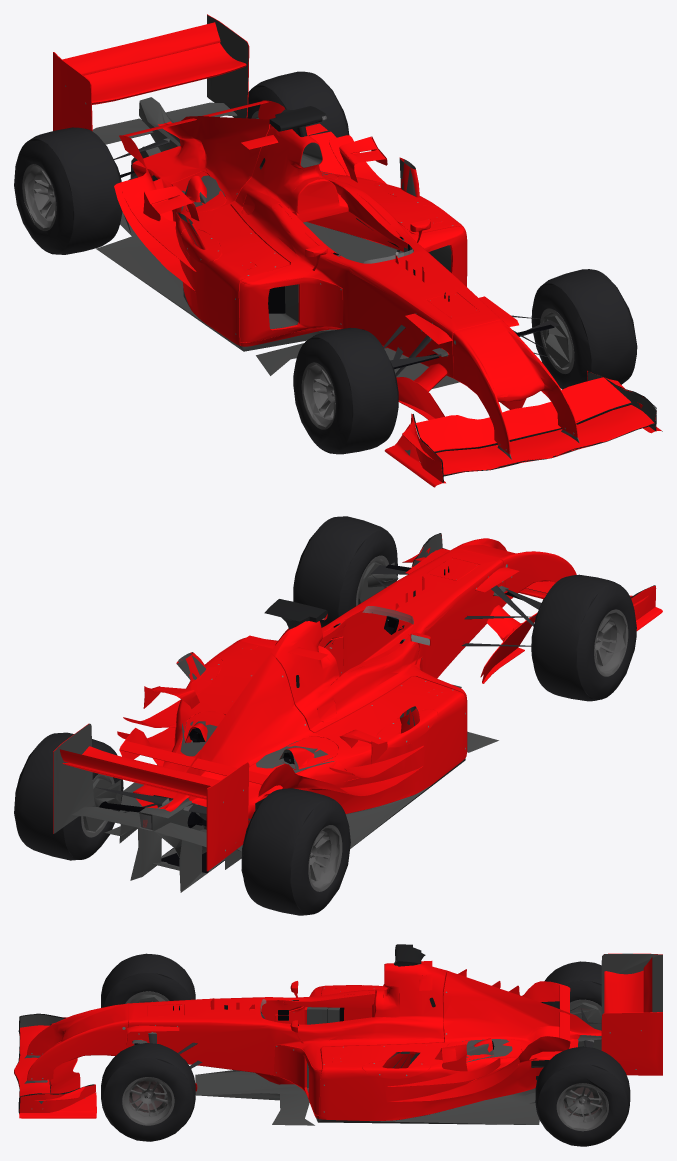
File: f1-05-williams.obj
The picture shows the model from 3 angles, top to bottom: view 1: azimuth 30°, elevation 25°; view 2: azimuth 150°, elevation 25°; view 3: azimuth 270°, elevation 25°; orthographic projection. The views are drawn at different scales.
Parts seen in each view (by area): view 1: BODY, WHEEL_RR, WHEEL_RF, WHEEL_LF, WHEEL_LR, AERO_WING, GLASS; view 2: BODY, WHEEL_RR, WHEEL_RF, WHEEL_LF, WHEEL_LR, GLASS, AERO_WING; view 3: BODY, WHEEL_LR, WHEEL_LF, WHEEL_RF, WHEEL_RR, AERO_WING.
Boxes of the visible parts, x1,y1,x2,y2 form: BODY: (53, 14, 662, 487); WHEEL_RR: (14, 127, 122, 254); WHEEL_RF: (293, 327, 398, 454); WHEEL_LF: (531, 269, 637, 389); WHEEL_LR: (247, 71, 349, 137); AERO_WING: (241, 123, 518, 344); GLASS: (120, 116, 554, 369); BODY: (53, 533, 662, 892); WHEEL_RR: (241, 788, 350, 915); WHEEL_RF: (531, 574, 636, 701); WHEEL_LF: (293, 516, 397, 627); WHEEL_LR: (14, 732, 123, 860); GLASS: (99, 564, 522, 873); AERO_WING: (241, 550, 519, 659); BODY: (14, 944, 662, 1125); WHEEL_LR: (535, 1046, 630, 1146); WHEEL_LF: (101, 1043, 195, 1141); WHEEL_RF: (101, 953, 195, 1007); WHEEL_RR: (541, 961, 601, 1030); AERO_WING: (127, 961, 432, 1034).
Size of the model in its own units: 1.91 by 1.15 by 4.65.
